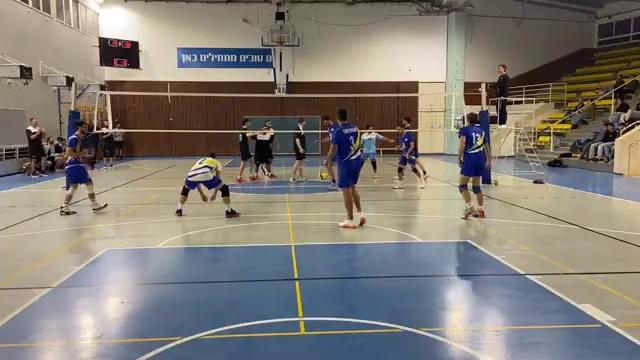ball: (314, 166, 332, 183)
